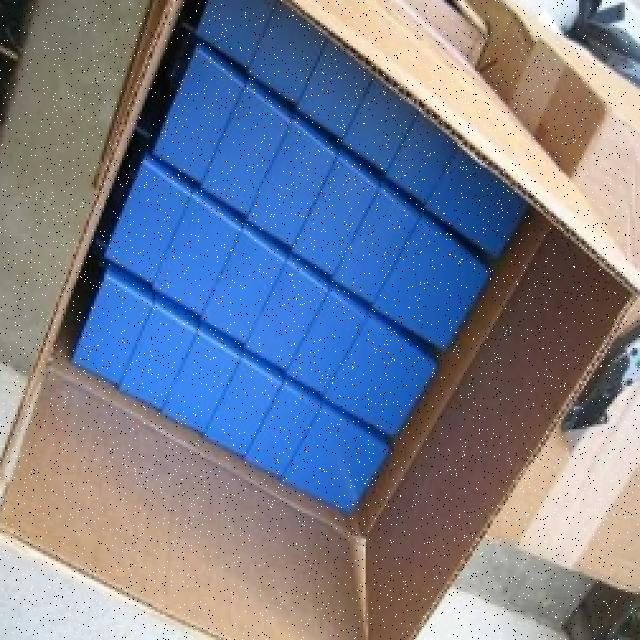box: (0, 0, 640, 640), (482, 49, 640, 567)
